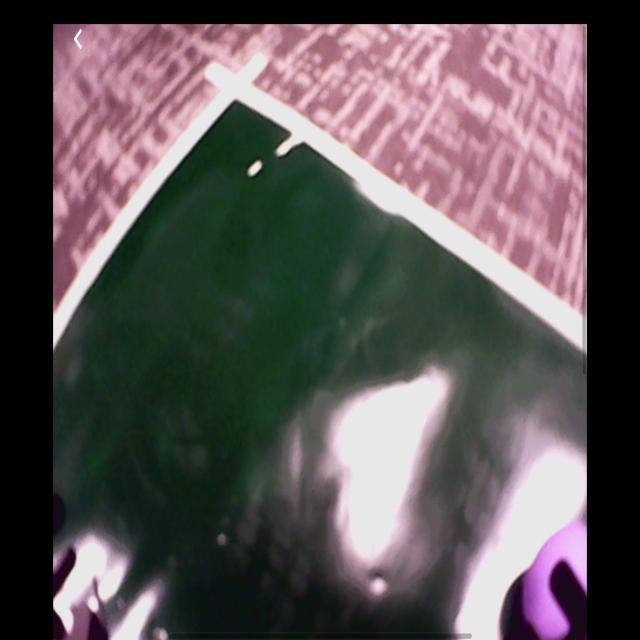ball: (526, 526, 591, 638)
